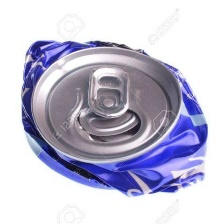can: (18, 37, 211, 208)
